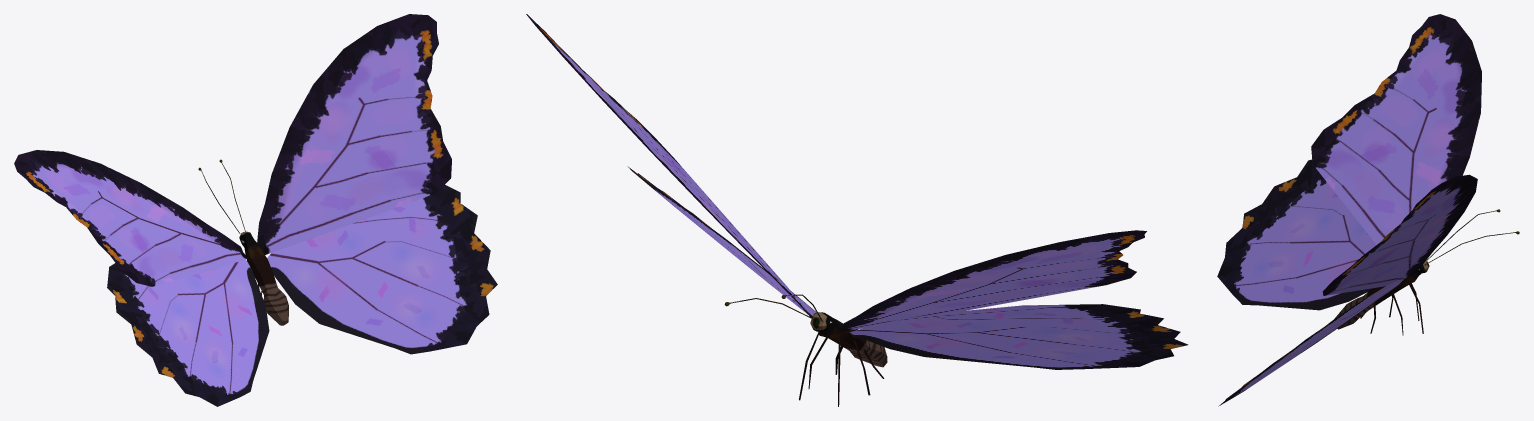
The picture shows the model from 3 angles, left to right: view 1: azimuth 30°, elevation 25°; view 2: azimuth 150°, elevation 25°; view 3: azimuth 270°, elevation 25°; orthographic projection. The views are drawn at different scales.
Visible parts, largest first — view 1: Wing Top Right, Wing Bottom Right, Wing Bottom Left, Wing Top Left, Body; view 2: Wing Bottom Left, Wing Top Left, Wing Top Right, Body, Wing Bottom Right; view 3: Wing Top Left, Wing Bottom Left, Wing Top Right, Wing Bottom Right, Body.
Part boxes in pixels (bbox=[...]): Wing Top Right: bbox=[257, 14, 451, 254]; Wing Bottom Right: bbox=[267, 185, 497, 354]; Wing Bottom Left: bbox=[107, 259, 269, 406]; Wing Top Left: bbox=[14, 150, 247, 286]; Body: bbox=[239, 231, 288, 325]; Wing Bottom Left: bbox=[850, 304, 1188, 369]; Wing Top Left: bbox=[836, 230, 1146, 332]; Wing Top Right: bbox=[526, 14, 812, 317]; Body: bbox=[810, 312, 887, 367]; Wing Bottom Right: bbox=[627, 166, 816, 315]; Wing Top Left: bbox=[1311, 14, 1481, 244]; Wing Bottom Left: bbox=[1217, 159, 1376, 310]; Wing Top Right: bbox=[1322, 174, 1477, 295]; Wing Bottom Right: bbox=[1218, 279, 1402, 406]; Body: bbox=[1334, 260, 1429, 329].
Size of the model in its own units: 4.04 by 2.25 by 2.32.
6 materials, 5 textured.
